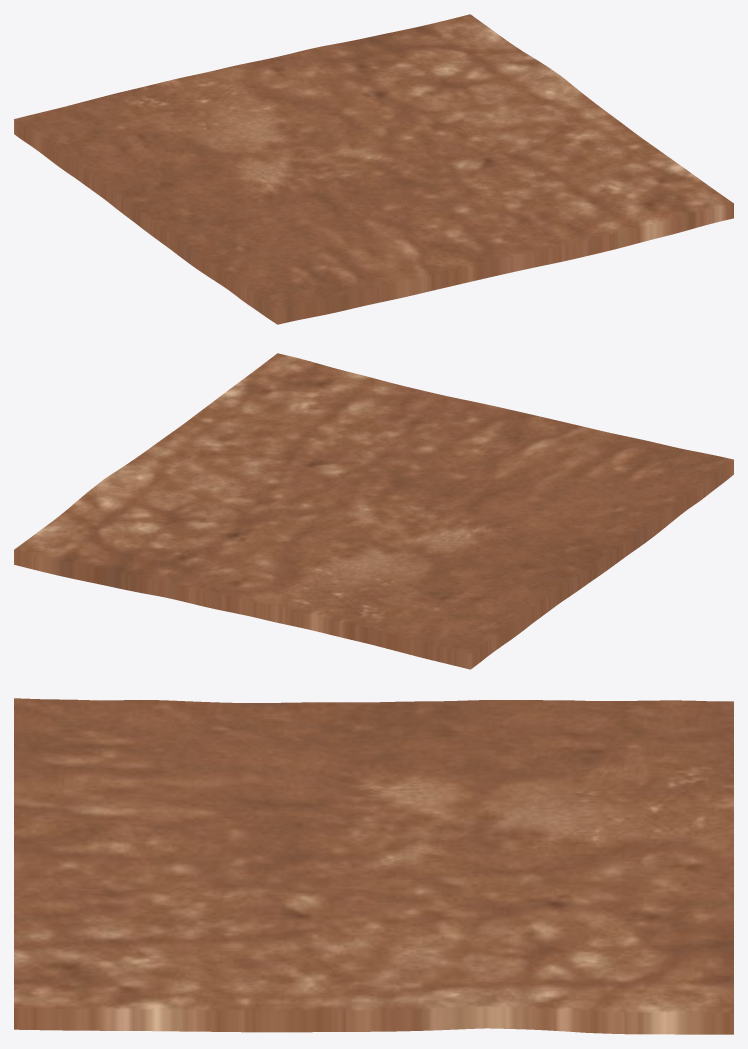
3 renders of one model, top to bottom at view 1: azimuth 30°, elevation 25°; view 2: azimuth 150°, elevation 25°; view 3: azimuth 270°, elevation 25°, orthographic. The views are drawn at different scales.
Visible parts, largest first — view 1: L8_137_113; view 2: L8_137_113; view 3: L8_137_113.
Part boxes in pixels (x1,y1,x2,y2): L8_137_113: (14, 14, 733, 324); L8_137_113: (14, 353, 733, 669); L8_137_113: (14, 698, 733, 1034).
Size of the model in its own units: 56.27 by 2.8 by 56.28.
Materials: 1 (1 with a texture image).
